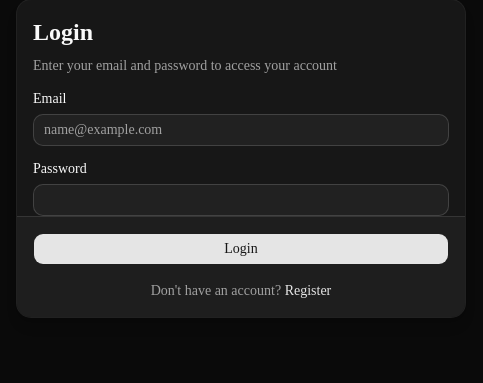
LoginForm › shows validation errors for empty fields
Click the button "Login" at (241, 249), box [33,233,449,265]
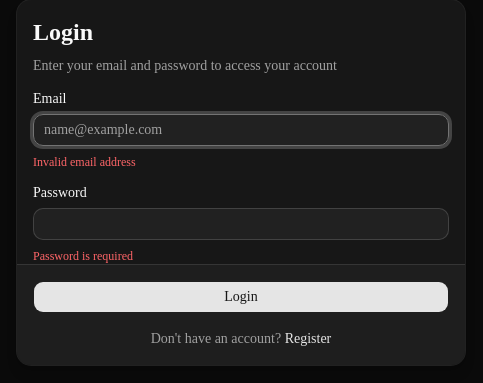
Expected: the text "Invalid email address" is shown, [33,155,136,169]
Expected: the text "Password is required" is shown, [33,249,133,263]
